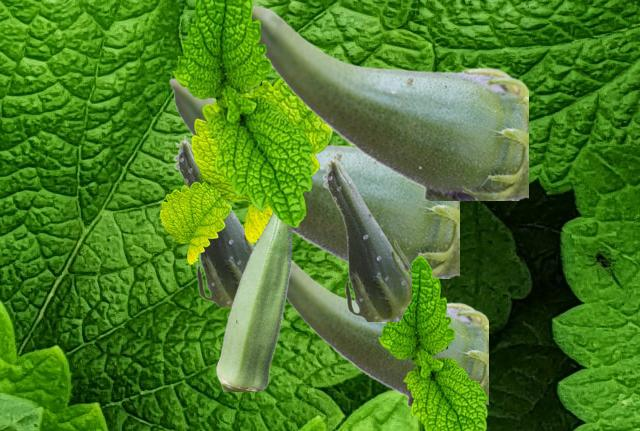okra: (168, 77, 458, 277), (253, 3, 527, 199), (287, 259, 487, 405), (322, 154, 410, 320), (173, 135, 255, 305), (216, 212, 291, 390)
